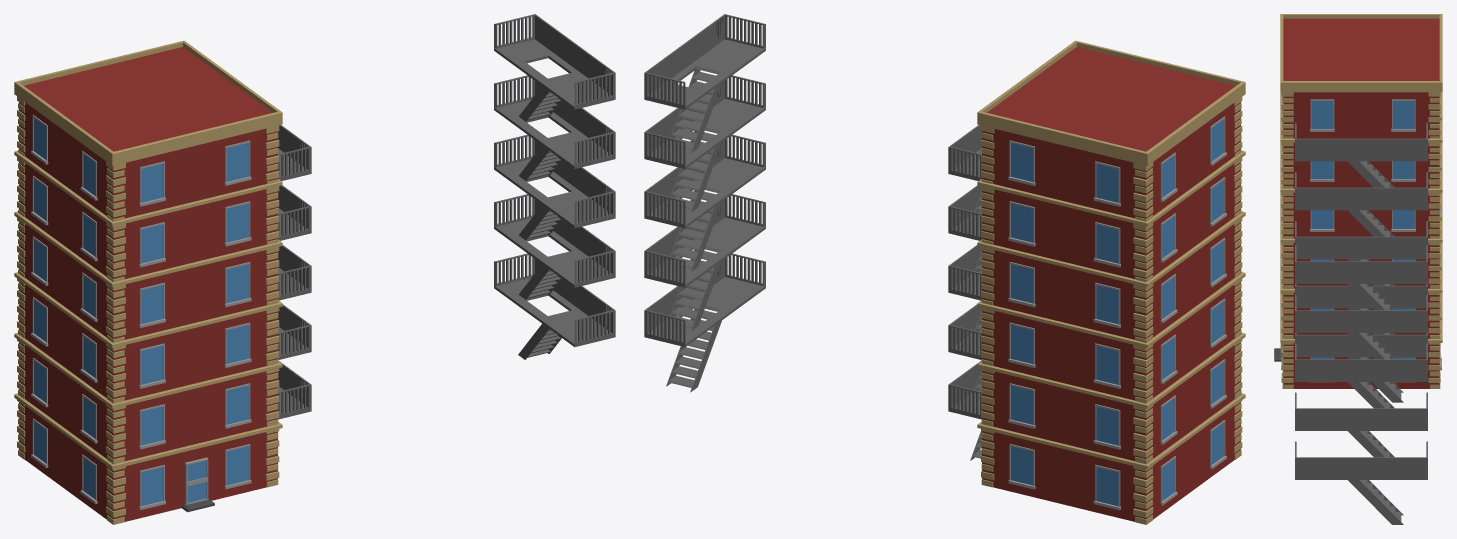
Rendered from GebouwRood.fbx.
The picture shows the model from 3 angles, left to right: view 1: azimuth 30°, elevation 25°; view 2: azimuth 150°, elevation 25°; view 3: azimuth 270°, elevation 25°; orthographic projection. The views are drawn at different scales.
Visible parts, largest first — view 1: gebouwRood, Cube.003; view 2: gebouwRood, Cube.003; view 3: gebouwRood, Cube.003.
Boxes of the visible parts, <box> form: gebouwRood: <box>14,40,311,524</box>; Cube.003: <box>494,14,615,359</box>; gebouwRood: <box>948,40,1245,524</box>; Cube.003: <box>644,14,765,392</box>; gebouwRood: <box>1274,14,1442,402</box>; Cube.003: <box>1295,245,1427,524</box>.
Bounding box in the file's own units: 1872 × 1304 × 645.
